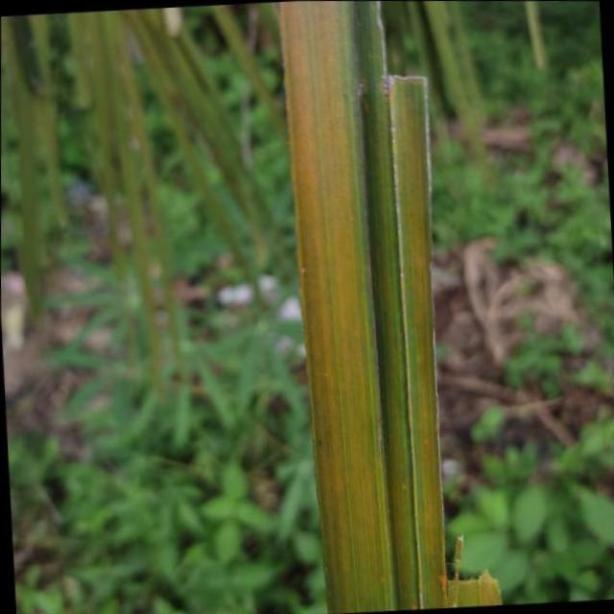Megnesium: (276, 0, 503, 614)
